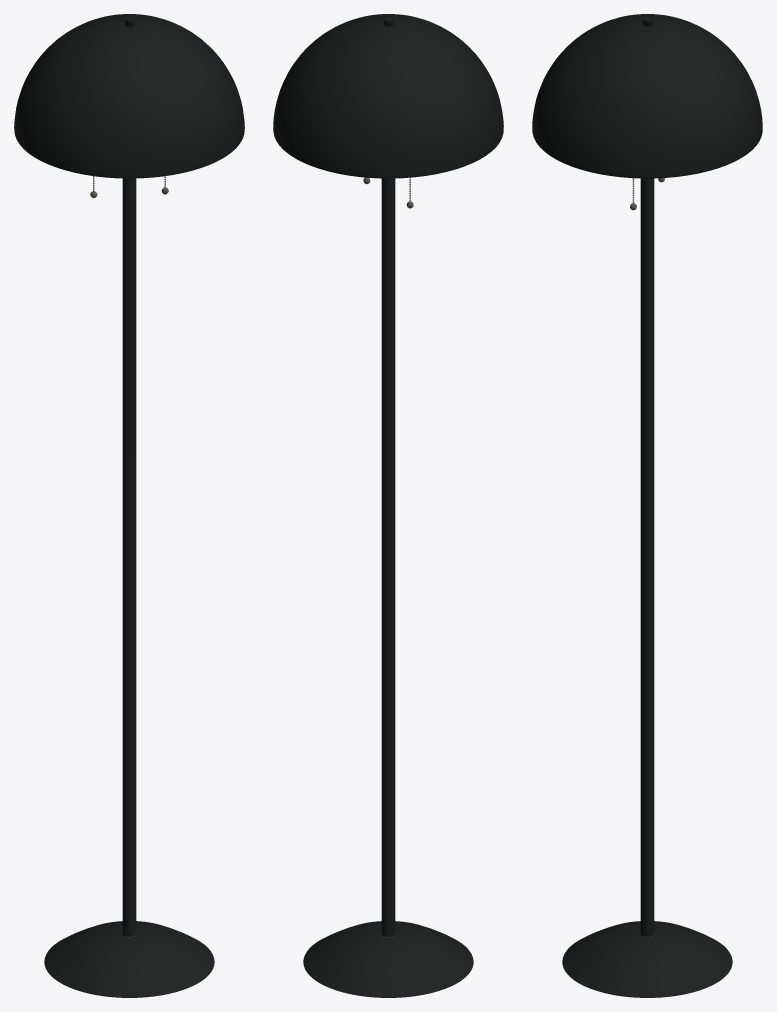
File: abo-B0825D7RYX.glb
3 views of the same model, side by side, from view 1: azimuth 30°, elevation 25°; view 2: azimuth 150°, elevation 25°; view 3: azimuth 270°, elevation 25° (orthographic).
Bounding box in the file's own units: 0.328 × 1.48 × 0.328.
Materials: 1 (1 with a texture image).
